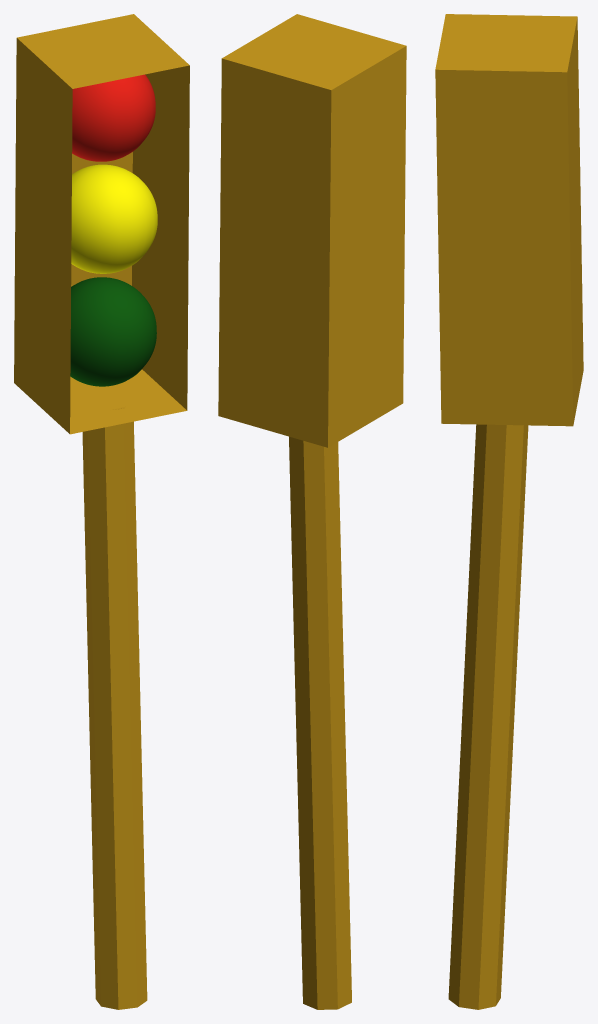
File: signal.glb
3 views of the same model, side by side, from view 1: azimuth 30°, elevation 25°; view 2: azimuth 150°, elevation 25°; view 3: azimuth 270°, elevation 25° (orthographic). The views are drawn at different scales.
Parts seen in each view (by area): view 1: Cube, Cylinder, SurfSphere.001, SurfSphere.002, SurfSphere; view 2: Cube, Cylinder; view 3: Cube, Cylinder.
Boxes of the visible parts, bbox=[...] form: Cube: bbox=[14, 14, 189, 434]; Cylinder: bbox=[82, 406, 147, 1009]; SurfSphere.001: bbox=[71, 164, 157, 273]; SurfSphere.002: bbox=[70, 277, 156, 386]; SurfSphere: bbox=[72, 74, 155, 161]; Cube: bbox=[218, 14, 406, 447]; Cylinder: bbox=[289, 436, 351, 1009]; Cube: bbox=[435, 14, 583, 426]; Cylinder: bbox=[448, 424, 528, 1009].
Bounding box in the file's own units: 2.16 × 15.95 × 2.24.
